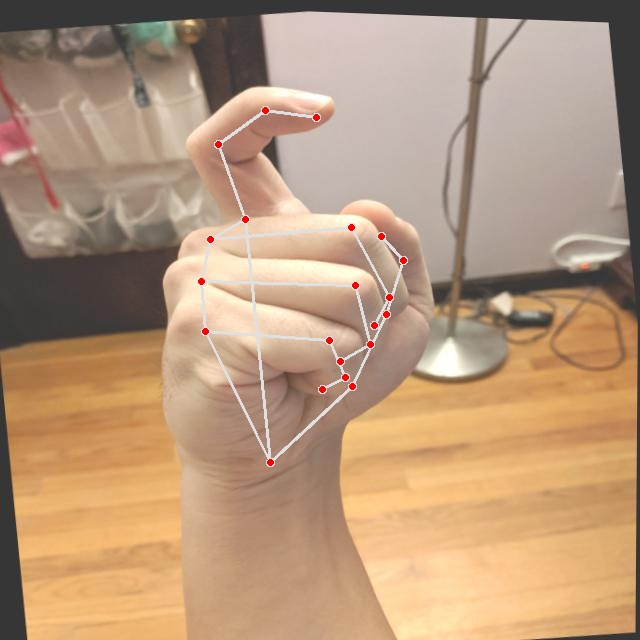X: (121, 58, 459, 481)
